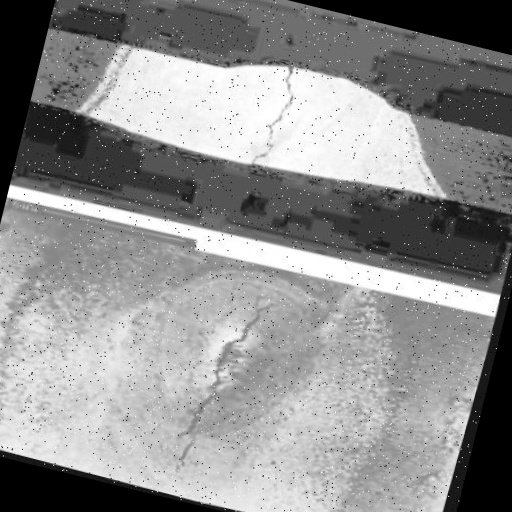crack: (158, 273, 306, 498), (246, 62, 317, 176)
